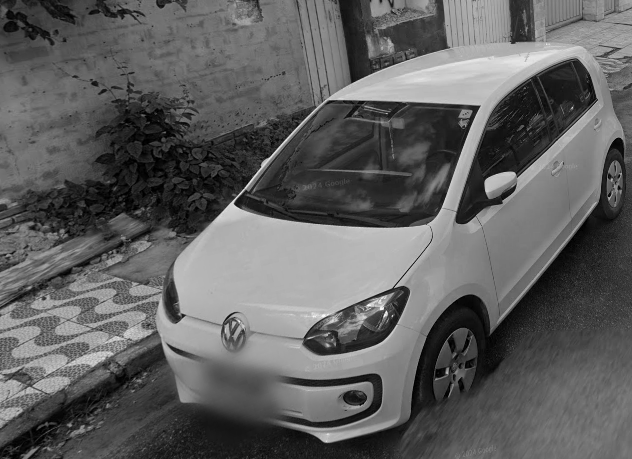car: (157, 41, 629, 441)
